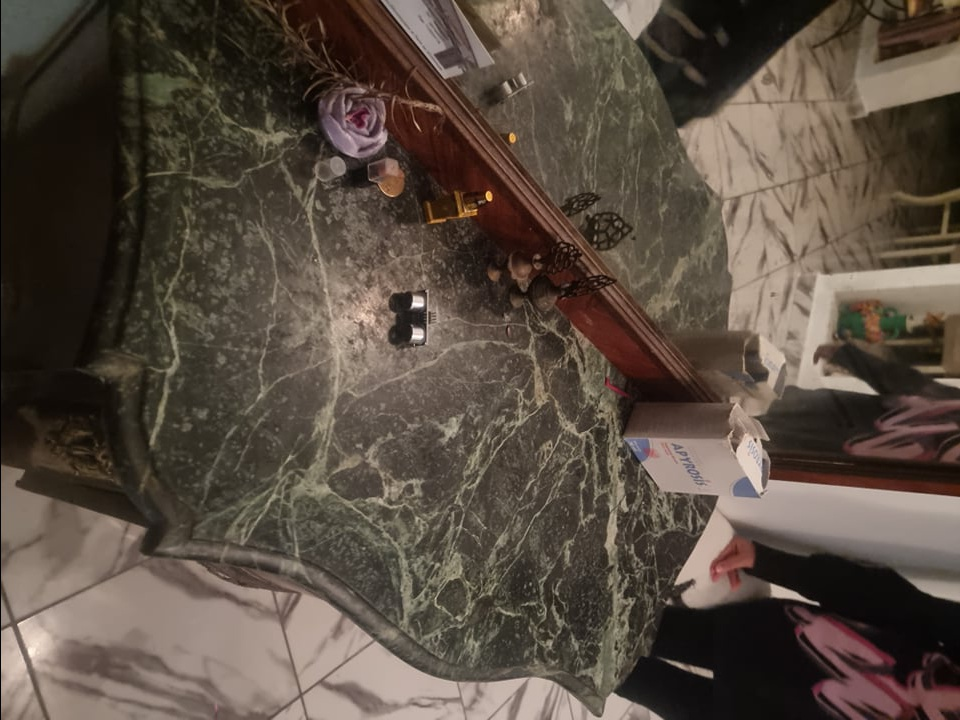SENSOR: (400, 288, 433, 352)
